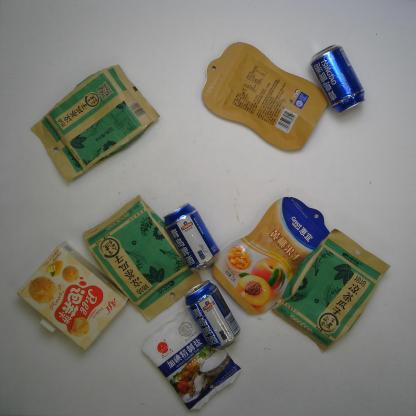Alcohol: (163, 202, 221, 274), (184, 279, 241, 349), (310, 43, 366, 113)
Dessert: (16, 242, 129, 350)
Dried Food: (30, 64, 160, 182), (81, 196, 204, 319), (270, 228, 390, 354)
Dried Fruit: (211, 197, 329, 316), (202, 43, 330, 151)
Seasoner: (140, 304, 242, 410)
